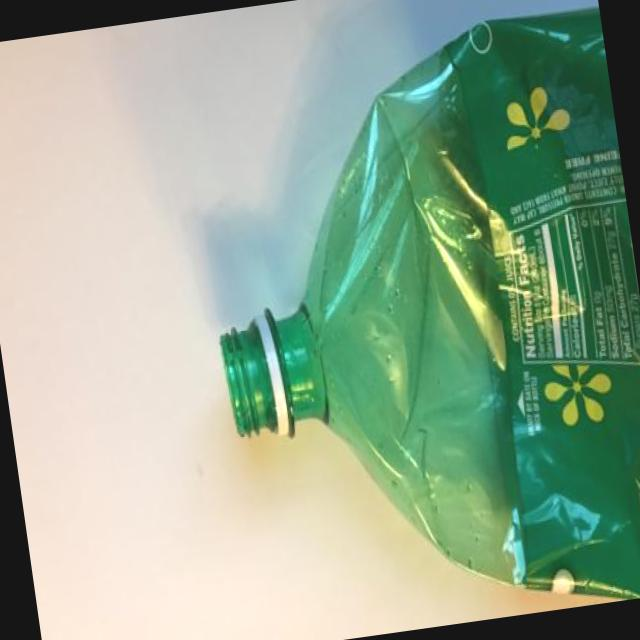Trash: (174, 12, 640, 640)
